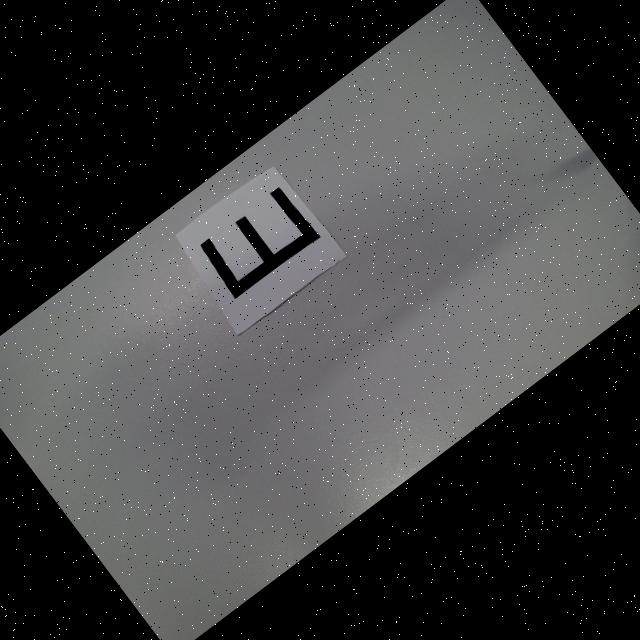FAKE: (196, 182, 322, 300)
